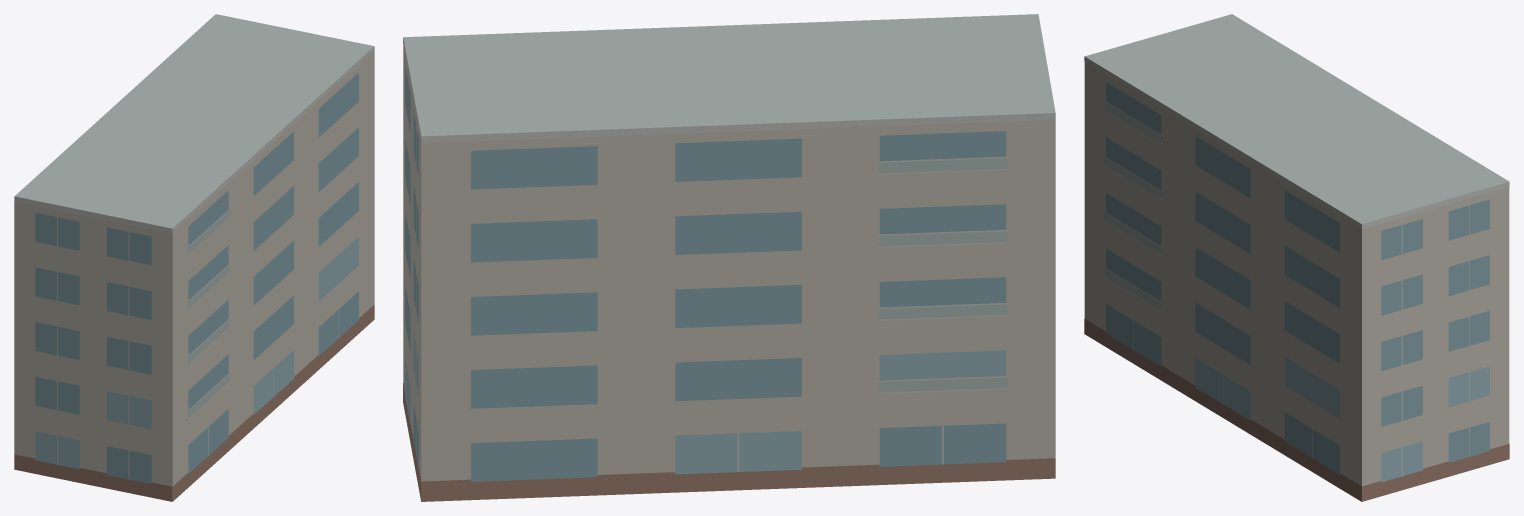
The model's file is survey-upis-32801489.glb.
3 views of the same model, side by side, from view 1: azimuth 30°, elevation 25°; view 2: azimuth 150°, elevation 25°; view 3: azimuth 270°, elevation 25° (orthographic). The views are drawn at different scales.
Parts seen in each view (by area): view 1: survey-upis-32801489.tmp; view 2: survey-upis-32801489.tmp; view 3: survey-upis-32801489.tmp.
Part boxes in pixels (x1,y1,x2,y2): survey-upis-32801489.tmp: (14,14,374,501); survey-upis-32801489.tmp: (403,14,1055,501); survey-upis-32801489.tmp: (1084,14,1509,501).
Bounding box in the file's own units: 21.44 × 13.2 × 18.31.
